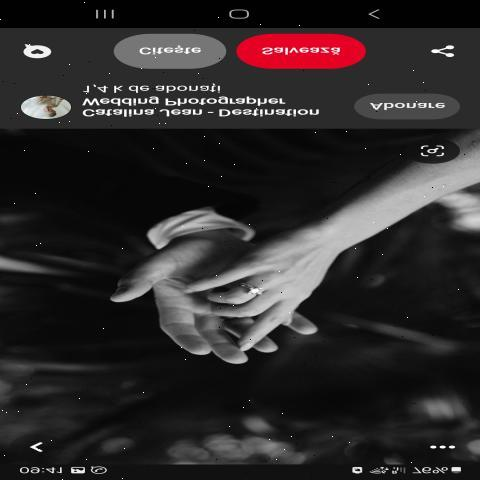Hands: (76, 213, 324, 387), (178, 195, 359, 352)
